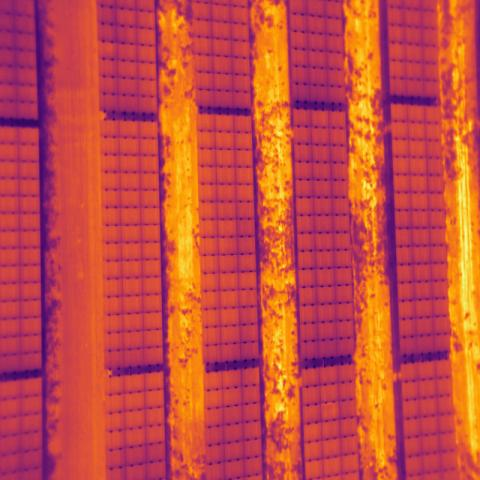fault: (96, 40, 118, 60)
